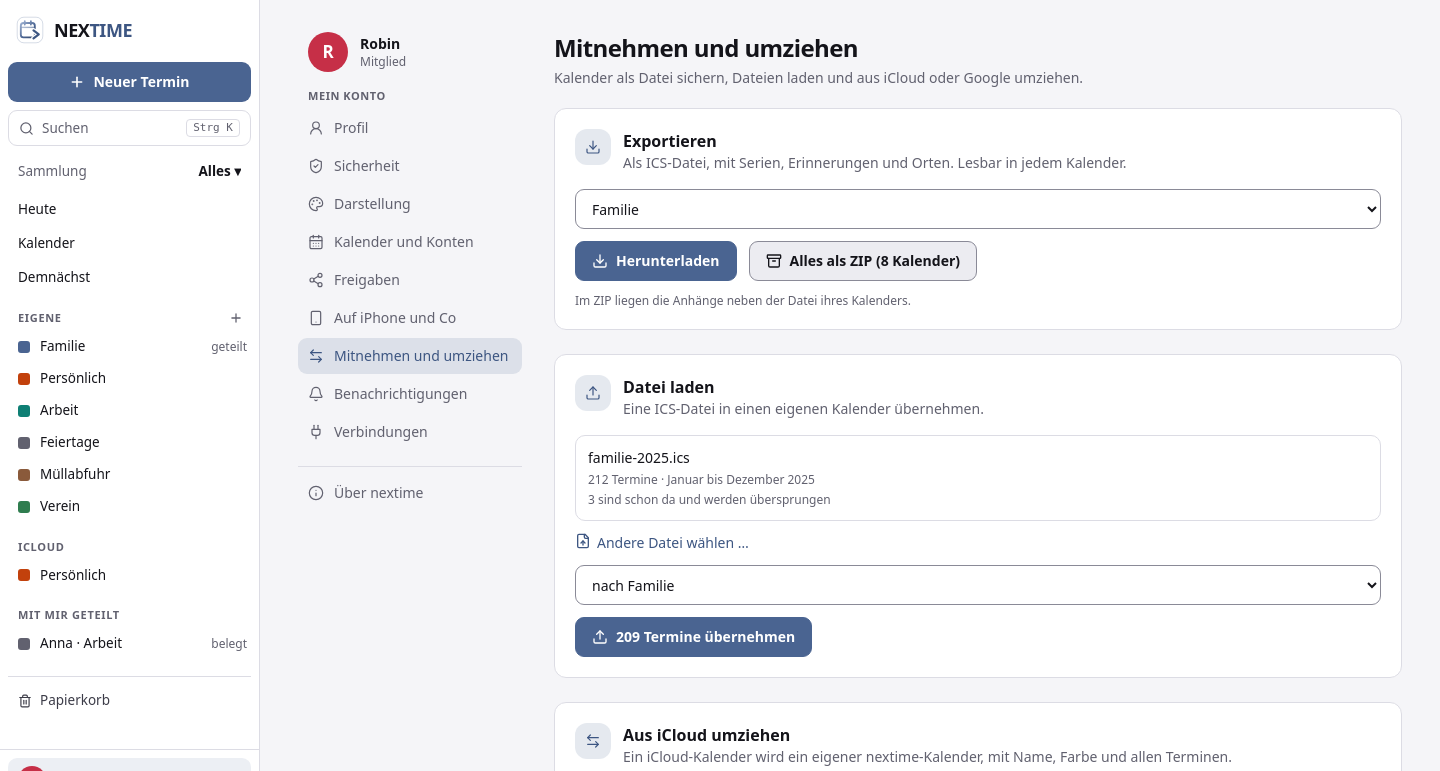
Test: TIME-24 Mitnehmen und umziehen › TIME-24 AC-2 a file shows name, number, period and what is there; "nach …" own calendars only; the button names what comes
This screenshot has width=1440, height=771.
Earlier steps of the test are not shown.
Click the button "209 Termine übernehmen" at {"x": 694, "y": 637}, box x1=575 y1=617 x2=812 y2=657
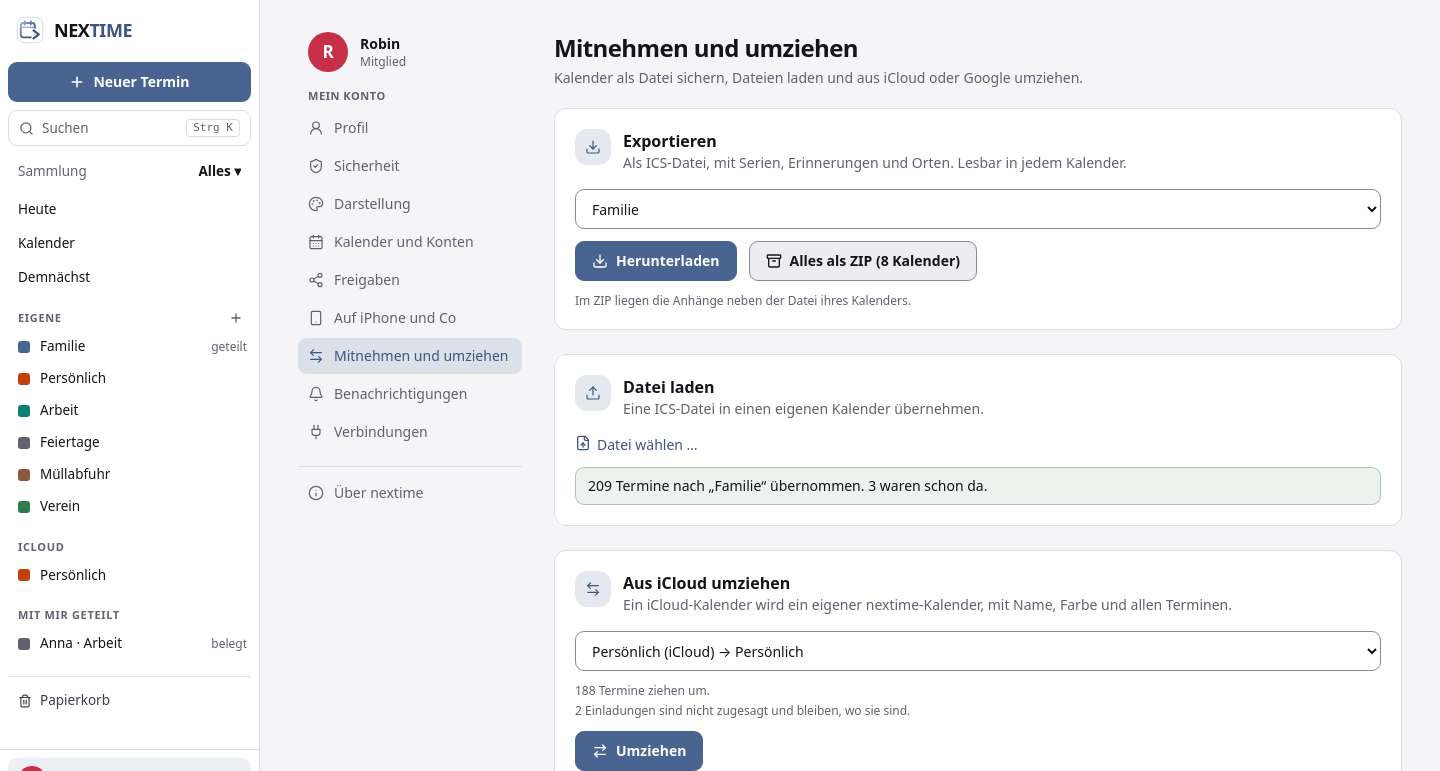
Expected: the text "Datei wählen …" is shown, x1=575 y1=435 x2=698 y2=455
Expected: the message "209 Termine nach „Familie“ übernommen. 3 waren schon da." is shown, x1=575 y1=467 x2=1381 y2=505
